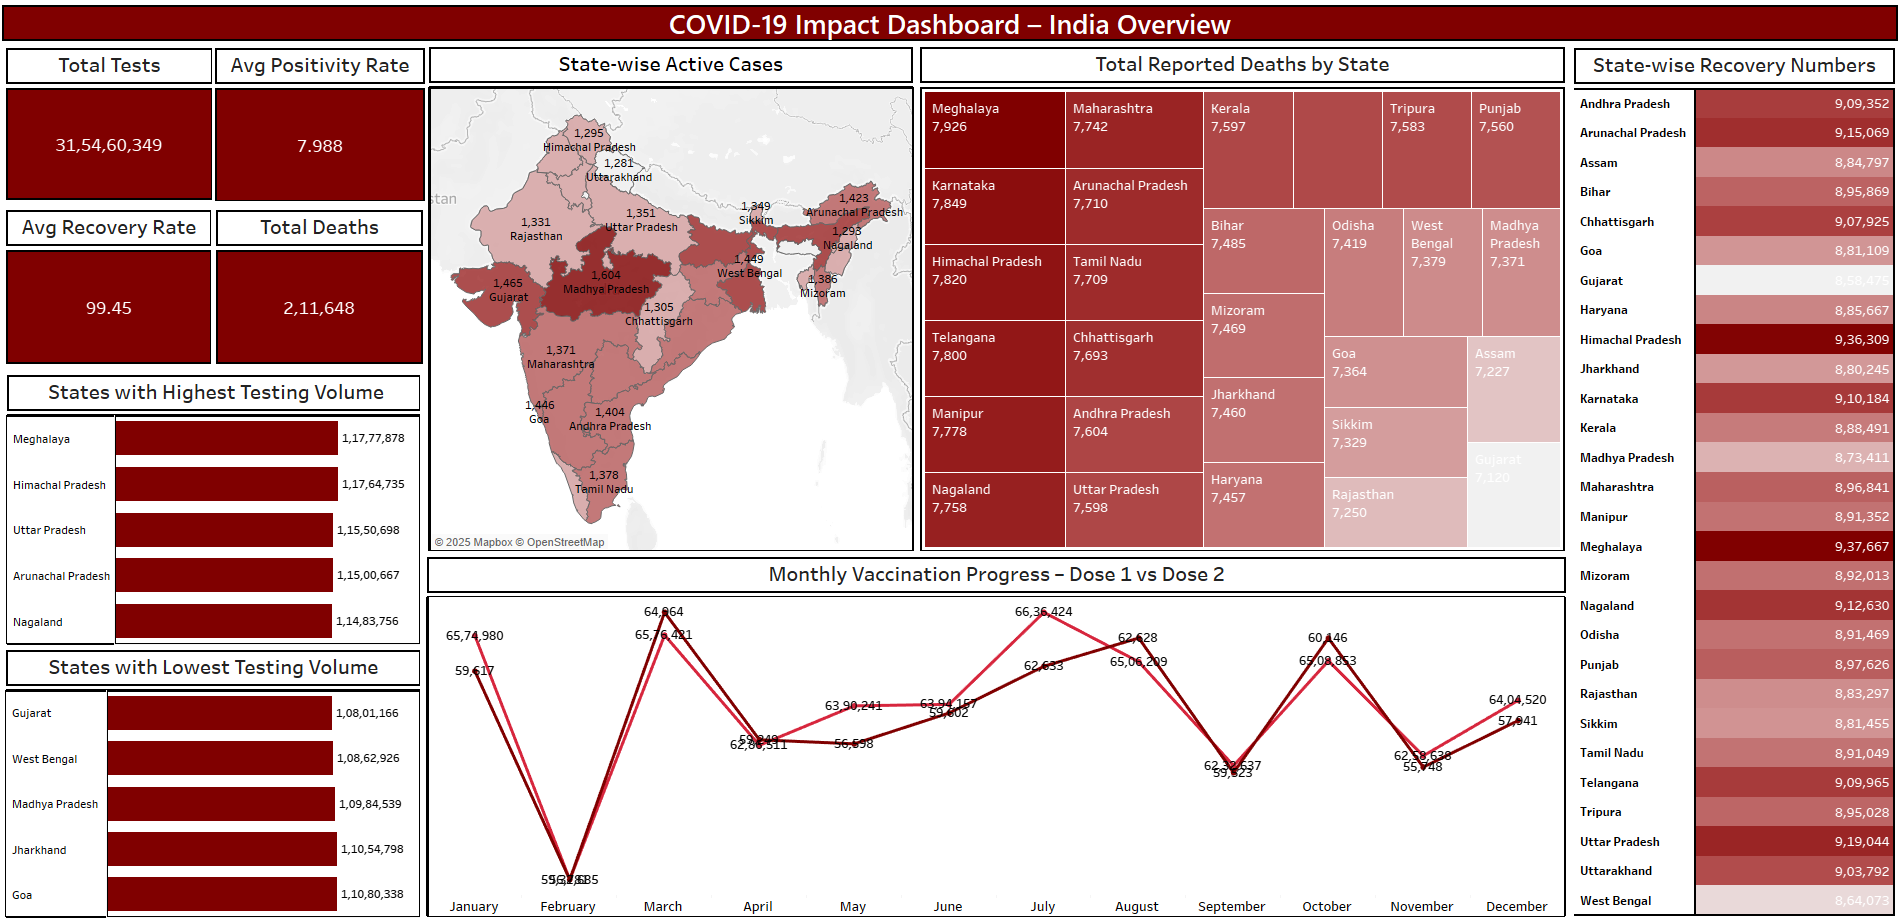

What the dashboard file says about the page in this screenshot:
{"tool":"tableau","page":{"name":"Dashboard 1","canvas":[1000,1000],"units":"permille","ordinal":0},"visuals":[{"type":"title","box":[4.7,9.3,990.6,51.4]},{"type":"worksheet","title":"Map","mark":"Automatic","box":[228.2,57.2,253.4,537.4]},{"type":"worksheet","title":"Death","mark":"Automatic","box":[483.9,57.2,336.4,550.2]},{"type":"worksheet","title":"Total test","mark":"Automatic","box":[7.6,58.4,108.2,162.4]},{"type":"worksheet","title":"Positivity Rate","mark":"Automatic","box":[116.4,58.4,110,163.6]},{"type":"worksheet","title":"Recovery","mark":"Square","rows":["State"],"box":[824.5,58.4,171.5,922.9]},{"type":"worksheet","title":"Recovery rate","mark":"Automatic","box":[7.6,231.3,107.7,163.6]},{"type":"worksheet","title":"Total death","mark":"Automatic","box":[117,231.3,108.2,163.6]},{"type":"worksheet","title":"Top 5","mark":"Automatic","rows":["State"],"cols":["Total_Tests"],"box":[8.2,406.5,215.9,287.4]},{"type":"worksheet","title":"Vaccine","mark":"Automatic","rows":["Vaccine_Dose_1","Vaccine_Dose_2"],"cols":["Date"],"box":[227,606.3,593.9,373.8]},{"type":"worksheet","title":"Bottom","mark":"Automatic","rows":["State"],"cols":["Total_Tests"],"box":[7.6,699.8,216.5,280.4]}]}

Visuals, with their boxes on the dashboard's canvas, which has no fixed pixel size, in thousandths of its width and height (x1, y1, x2, y2). These are canvas units, not pixel positions in the 1901x921 screenshot, which may show the page scaled, cropped or inside an application window:
title: BBox(5, 9, 995, 61)
"Map" worksheet: BBox(228, 57, 482, 595)
"Death" worksheet: BBox(484, 57, 820, 607)
"Total test" worksheet: BBox(8, 58, 116, 221)
"Positivity Rate" worksheet: BBox(116, 58, 226, 222)
"Recovery" worksheet (Square marks): BBox(824, 58, 996, 981)
"Recovery rate" worksheet: BBox(8, 231, 115, 395)
"Total death" worksheet: BBox(117, 231, 225, 395)
"Top 5" worksheet: BBox(8, 406, 224, 694)
"Vaccine" worksheet: BBox(227, 606, 821, 980)
"Bottom" worksheet: BBox(8, 700, 224, 980)
